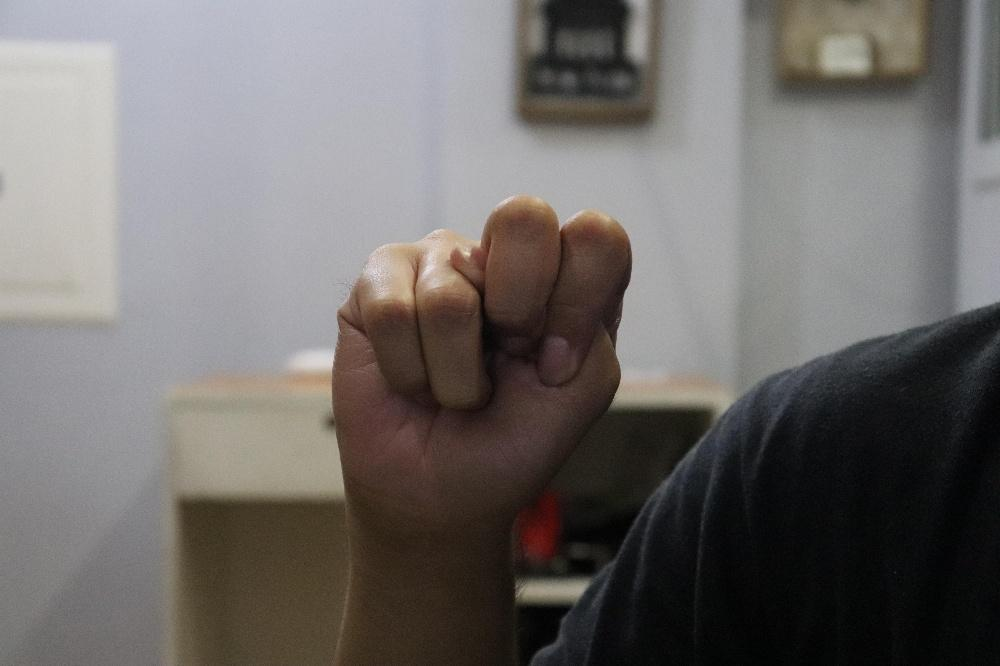n: (329, 191, 632, 532)
